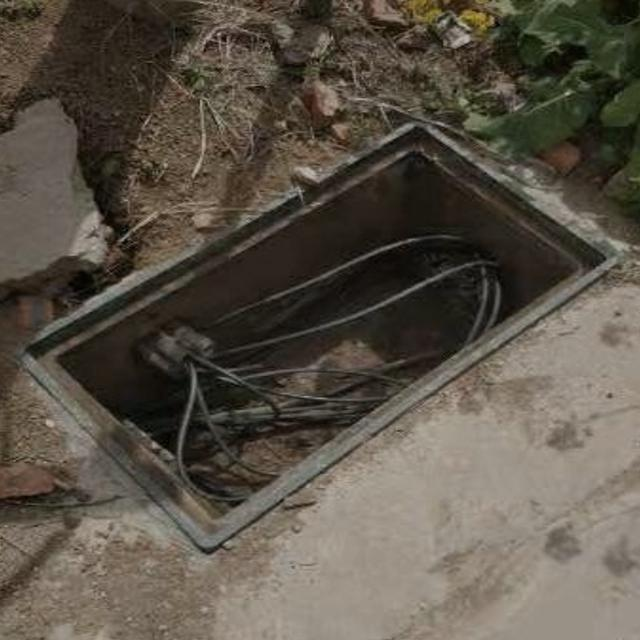lose: (15, 118, 616, 554)
